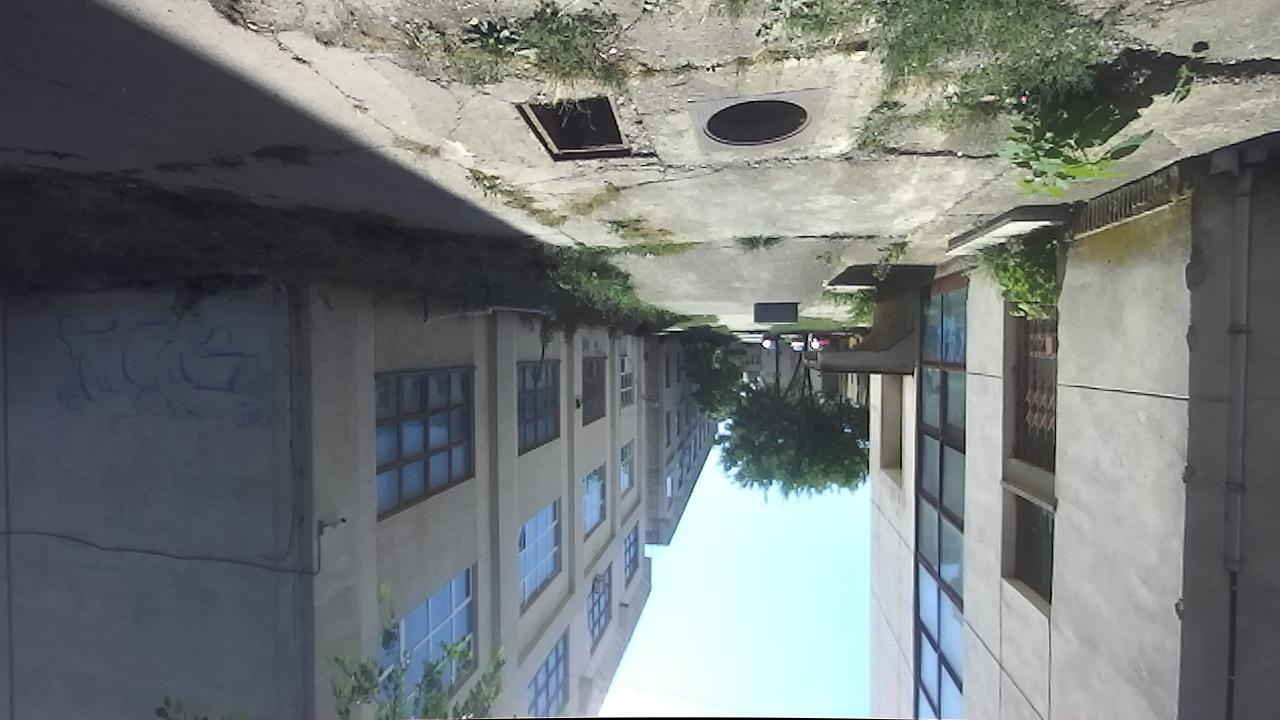drain: (508, 90, 633, 166), (696, 97, 815, 150)
